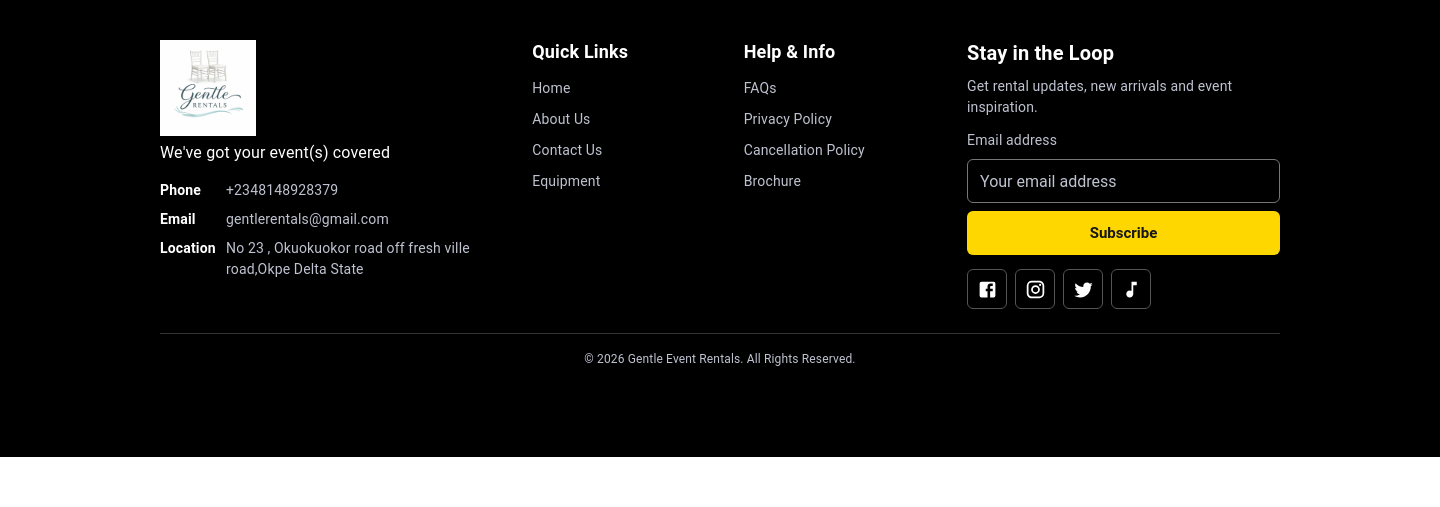
it: subscription errors are shown and entered email is retained
Type "test@example.com" into the field labelled "Email address" at [1123, 181], box [967,159,1280,203]
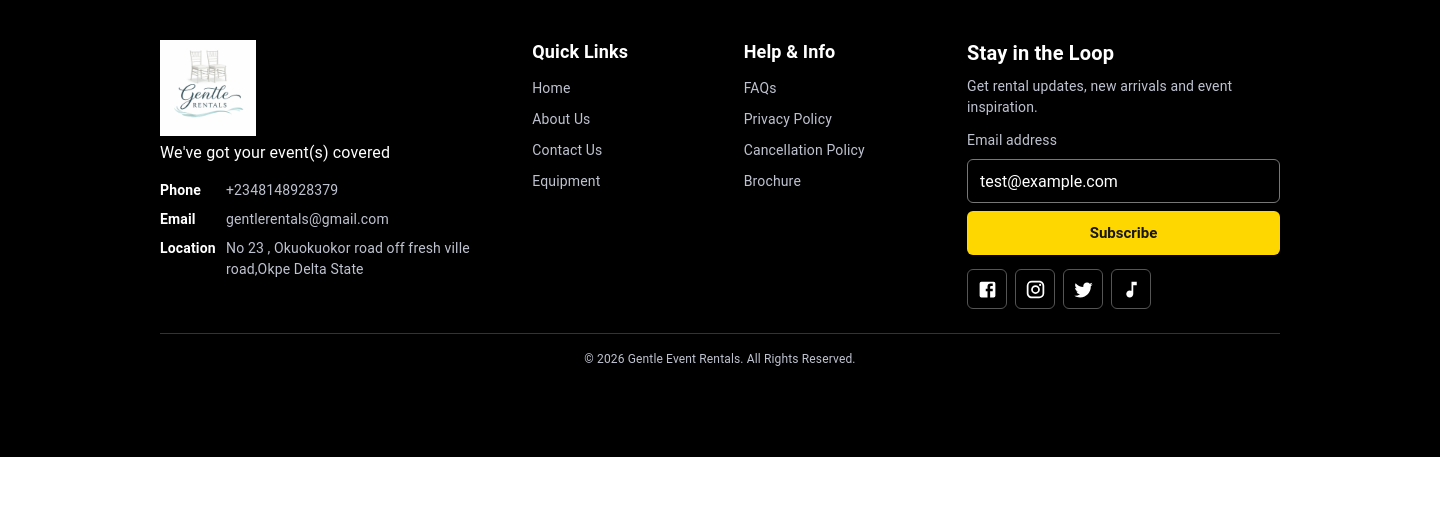
Click the button "Subscribe" at [1123, 233], box [967,211,1280,255]
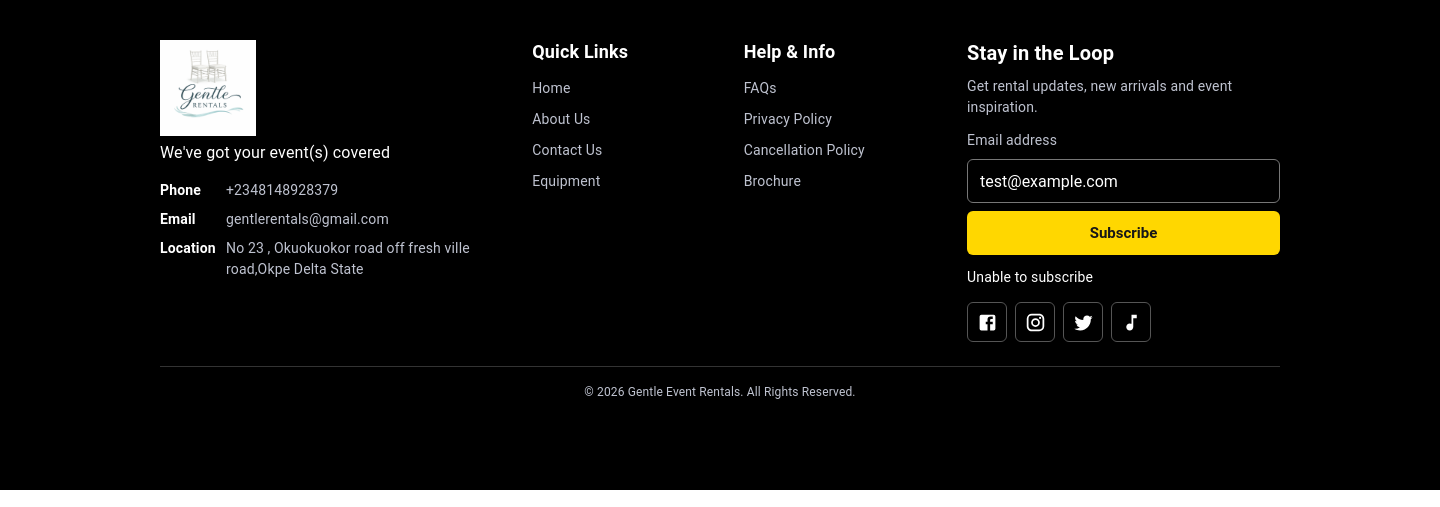
Result: the message reads "Unable to subscribe" at [967,269,1093,285]
